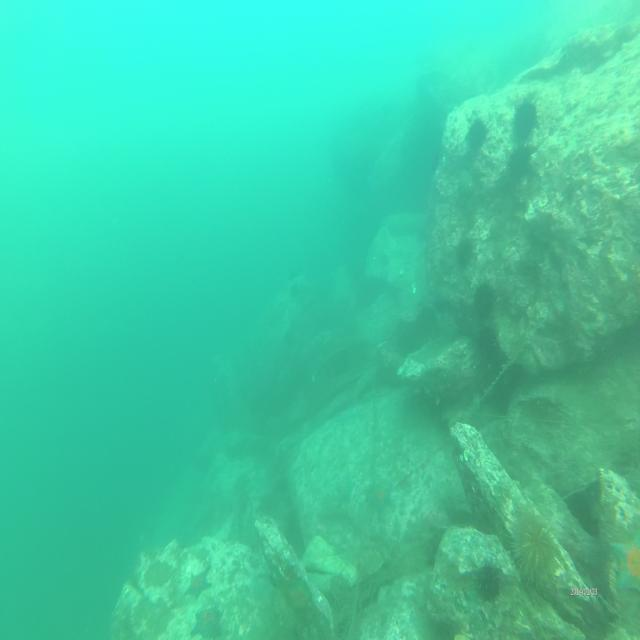echinus: (512, 501, 566, 599), (472, 552, 504, 614), (469, 275, 498, 325), (512, 95, 542, 142), (504, 141, 536, 182), (462, 116, 492, 156), (452, 232, 477, 272)
starfish: (610, 522, 640, 597), (190, 602, 224, 640), (183, 563, 212, 602), (365, 476, 393, 516)
